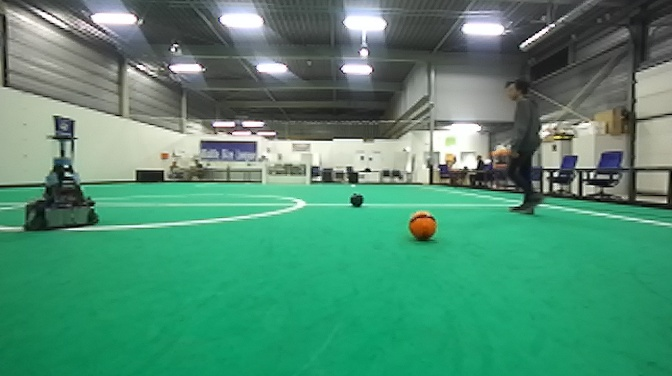ball: (405, 208, 439, 244), (347, 189, 365, 209)
goal: (261, 159, 311, 188)
goalpost: (303, 159, 312, 188), (260, 159, 268, 188)
human: (497, 76, 546, 218)
robot: (19, 111, 102, 235)
